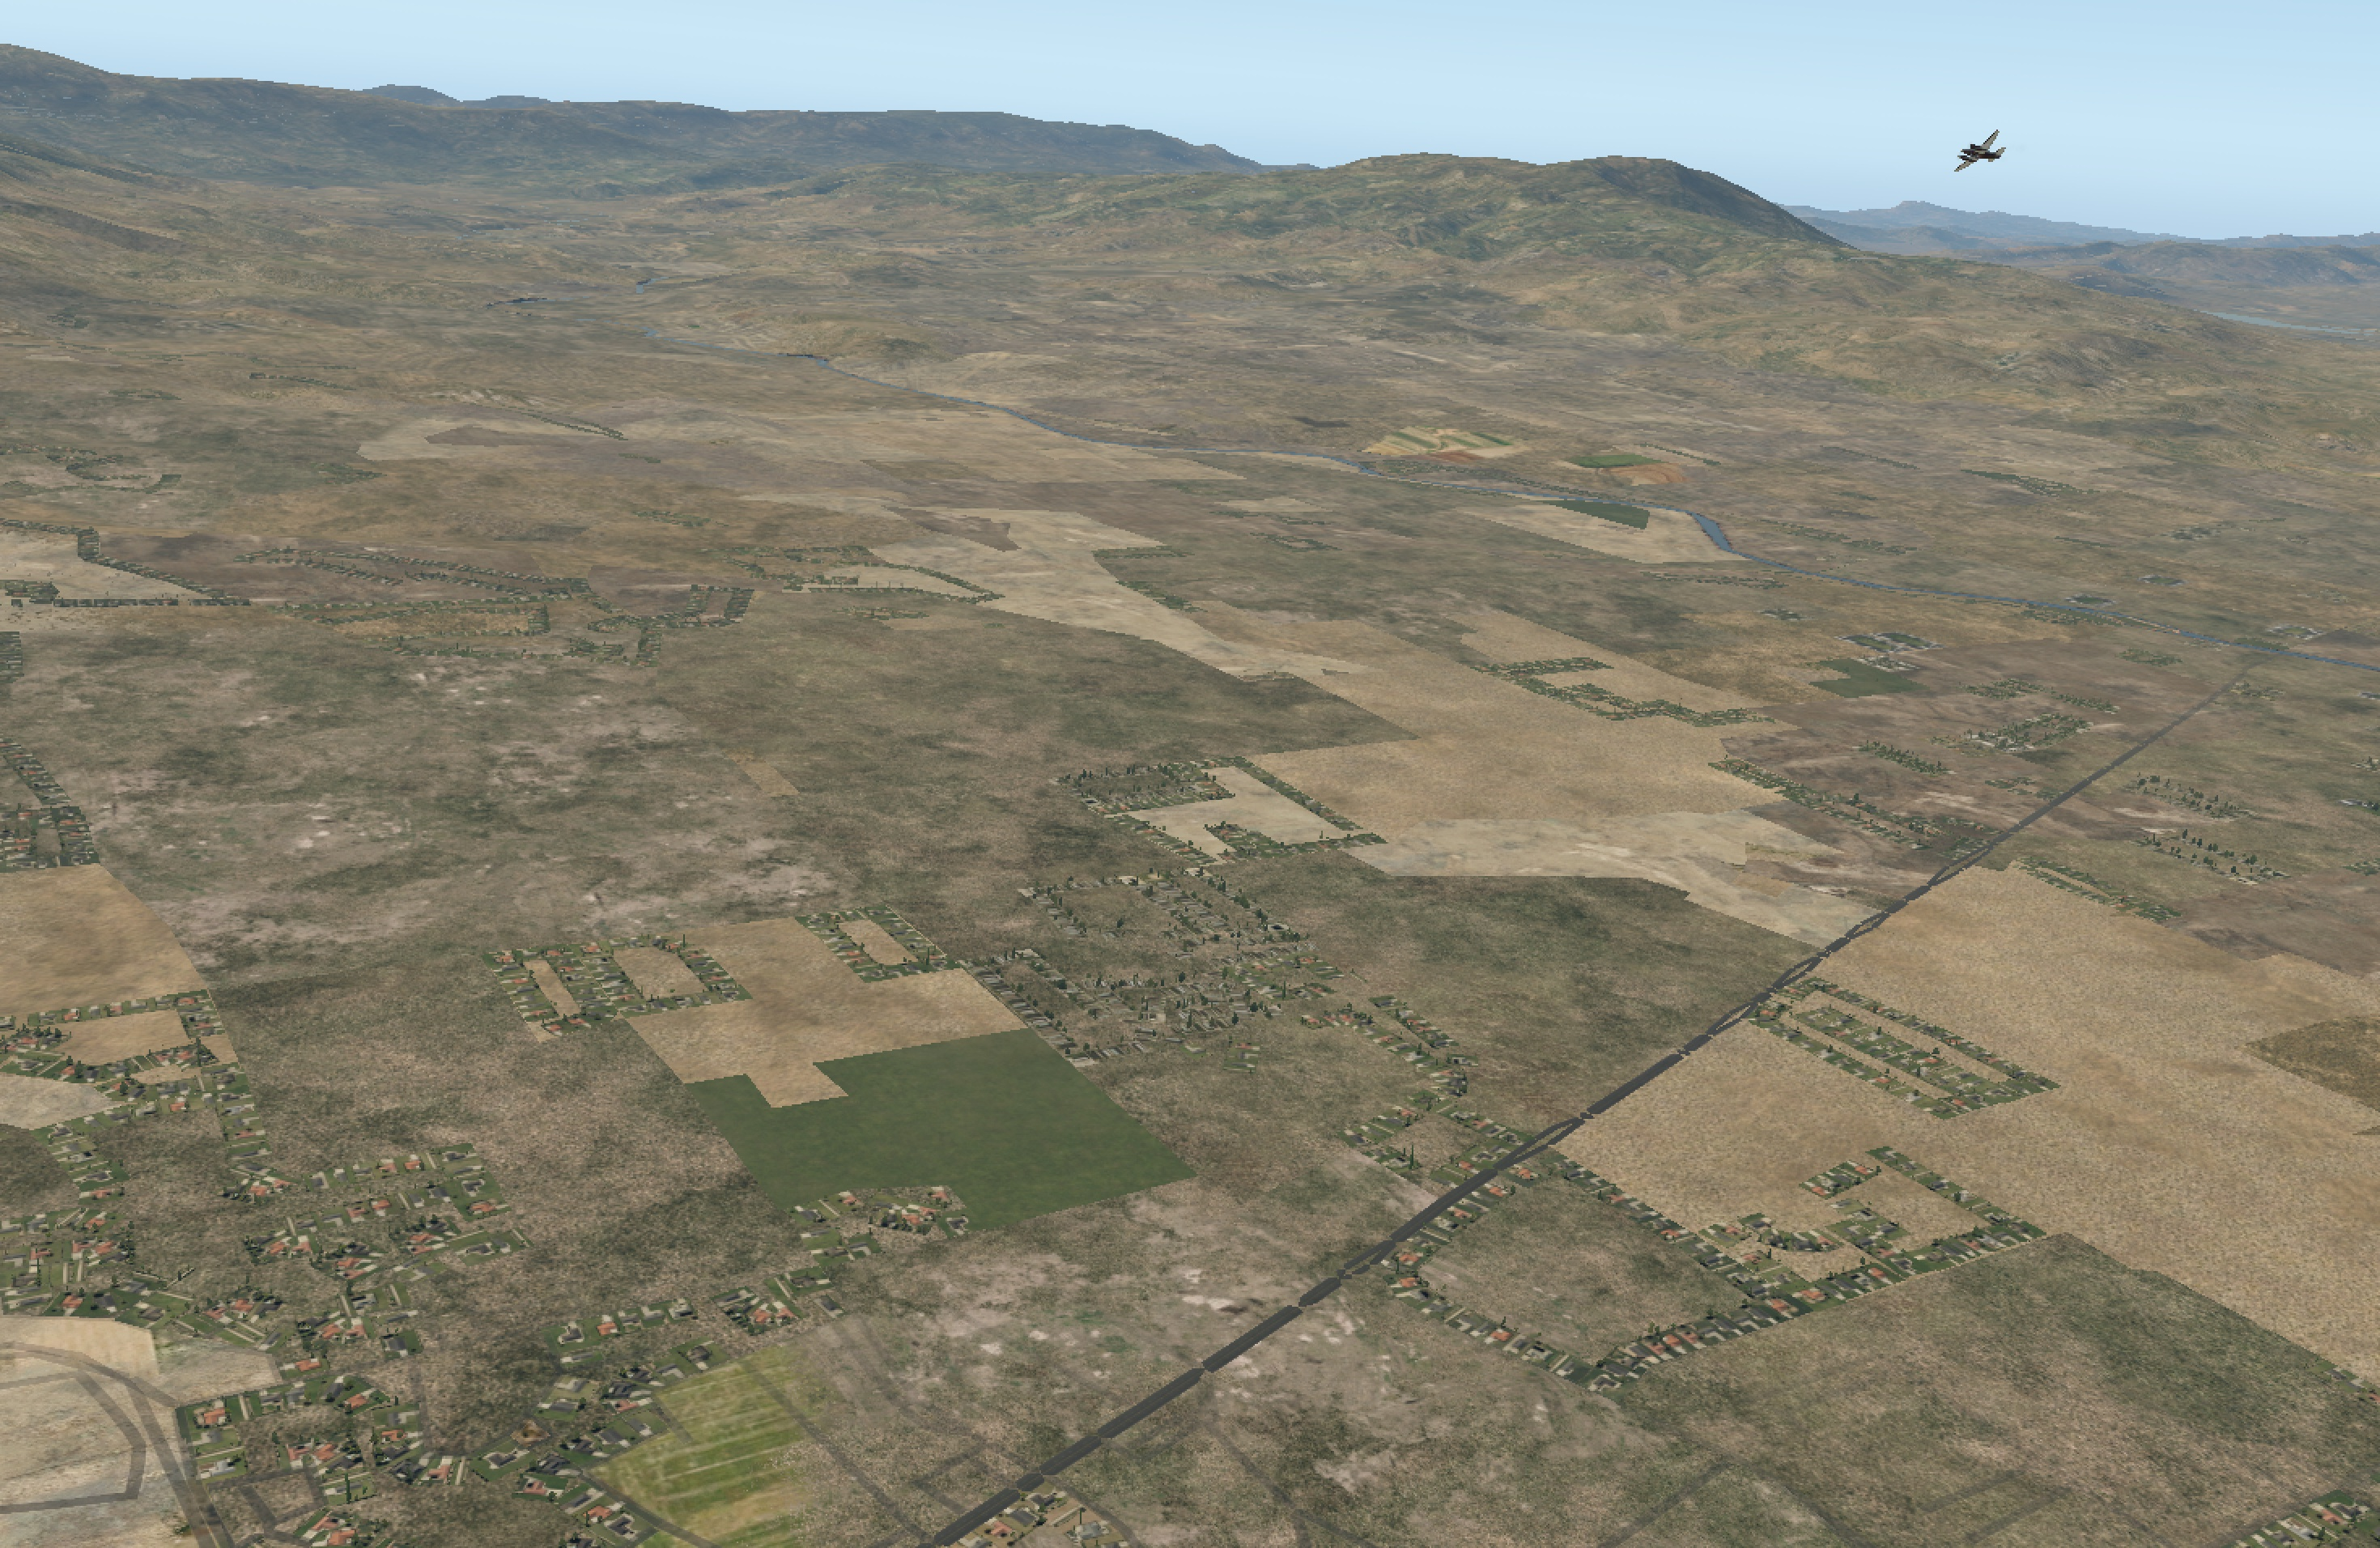aircraft: (1943, 142, 2007, 167)
